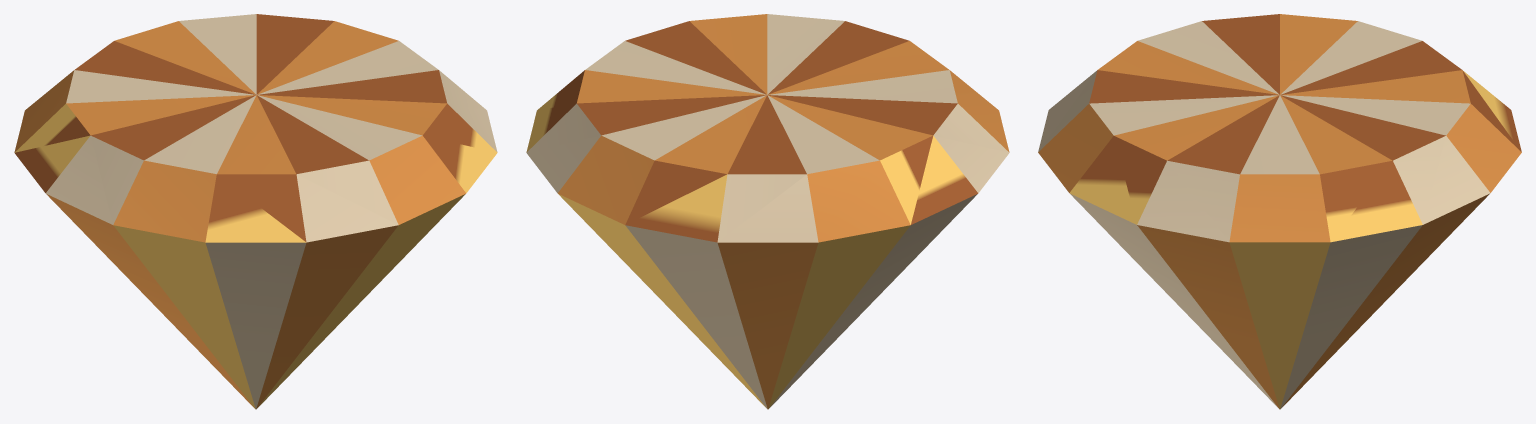
The model's file is Diamond.fbx.
3 renders of one model, left to right at view 1: azimuth 30°, elevation 25°; view 2: azimuth 150°, elevation 25°; view 3: azimuth 270°, elevation 25°, orthographic.
Visible parts, largest first — view 1: pCone1; view 2: pCone1; view 3: pCone1.
Part boxes in pixels (left/top/right/bottom): pCone1: left=14, top=14, right=497, bottom=409; pCone1: left=526, top=14, right=1009, bottom=409; pCone1: left=1038, top=14, right=1521, bottom=409.
Bounding box in the file's own units: 1.98 × 1.43 × 1.99.
